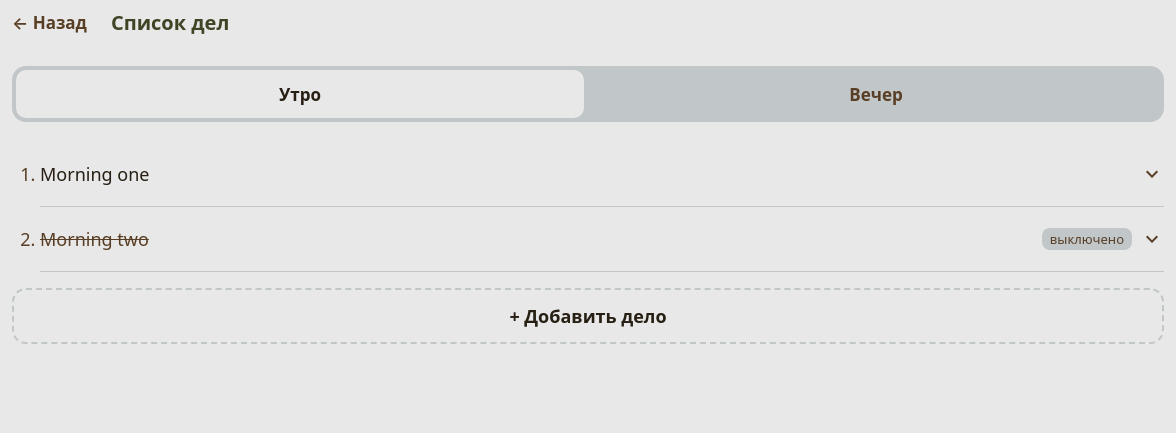
Editor: row toolbar › opens on tap, closes on a second tap
The image size is (1176, 433).
Expected: the button "Выше" is not shown
Click the button "Morning one": (95, 174) [40,150,1164,198]
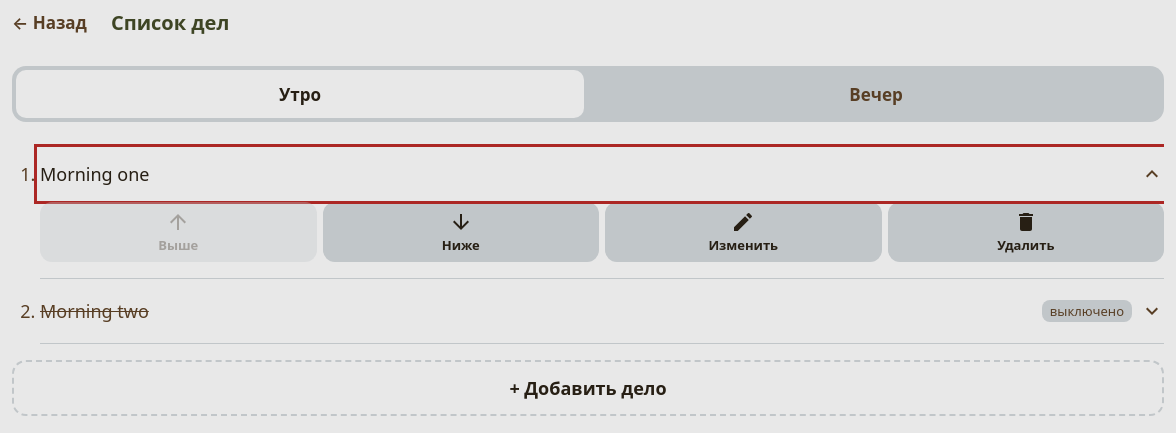
Now the button "Morning one" is expanded
Now the button "Выше" is shown, box [40,202,316,262]
Now the button "Ниже" is shown, box [322,202,599,262]
Click the button "Morning one": (95, 174) [40,150,1164,198]
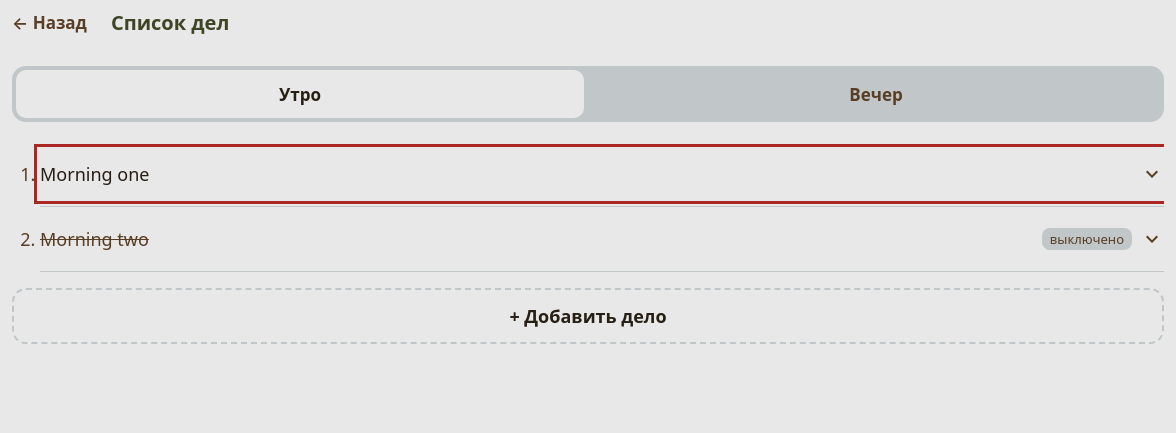
Now the button "Выше" is gone
